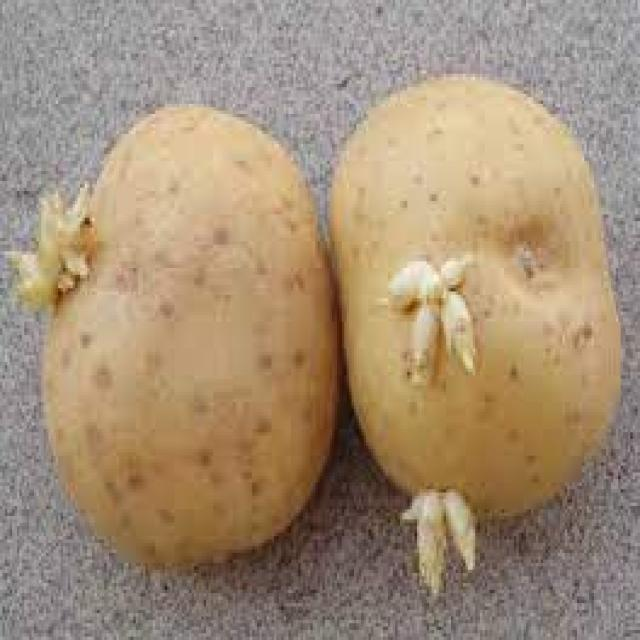Potato: (18, 63, 350, 607), (309, 34, 622, 554)
